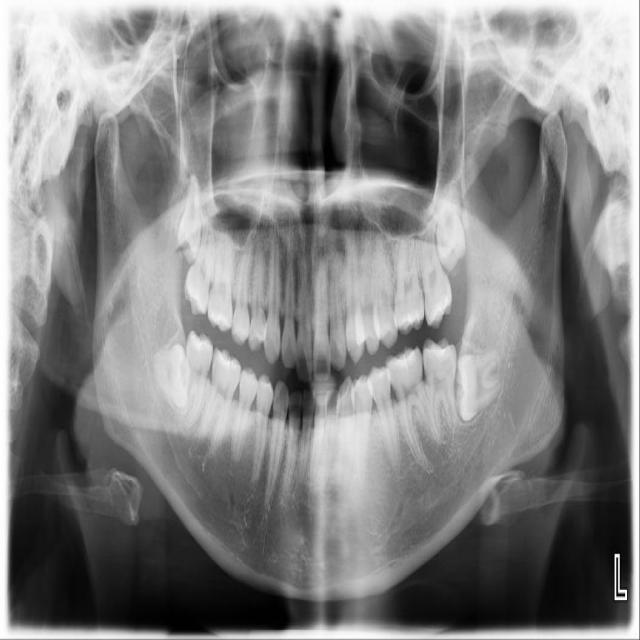3M ESPE Implant: (173, 173, 211, 264)
73: (606, 580, 610, 594)
BioHorizons Implant: (414, 217, 456, 331)
BioLife Implant: (435, 178, 468, 271)
Biomet 3i Implant: (453, 346, 504, 424)
Blue Sky Bio Implant: (422, 336, 460, 439)
Caries: (180, 204, 222, 316)
Implant: (175, 328, 216, 427)
Keystone Dental Implant: (153, 344, 190, 409)
